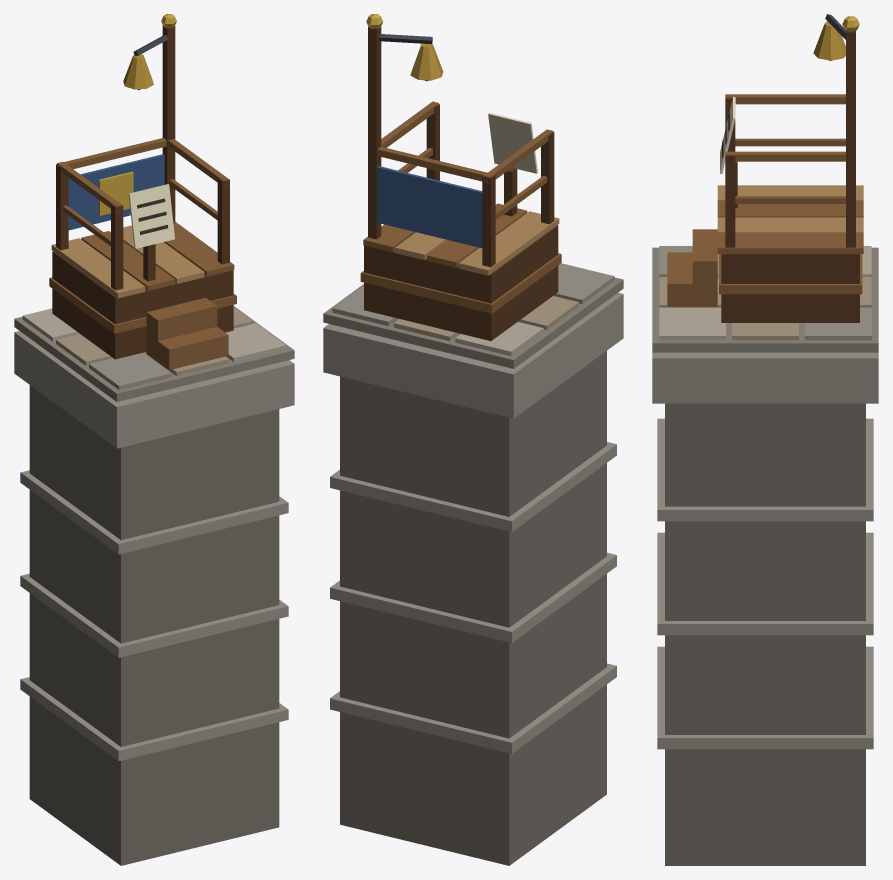
File: decor_crier_stand.glb
The picture shows the model from 3 angles, left to right: view 1: azimuth 30°, elevation 25°; view 2: azimuth 150°, elevation 25°; view 3: azimuth 270°, elevation 25°; orthographic projection. The views are drawn at different scales.
Visible parts, largest first — view 1: decor_crier_stand; view 2: decor_crier_stand; view 3: decor_crier_stand.
Part boxes in pixels (x1=…): decor_crier_stand: x1=14, y1=14, x2=294, y2=865; decor_crier_stand: x1=323, y1=14, x2=623, y2=865; decor_crier_stand: x1=652, y1=14, x2=878, y2=865.
Bounding box in the file's own units: 1.8 × 7.33 × 1.8.
